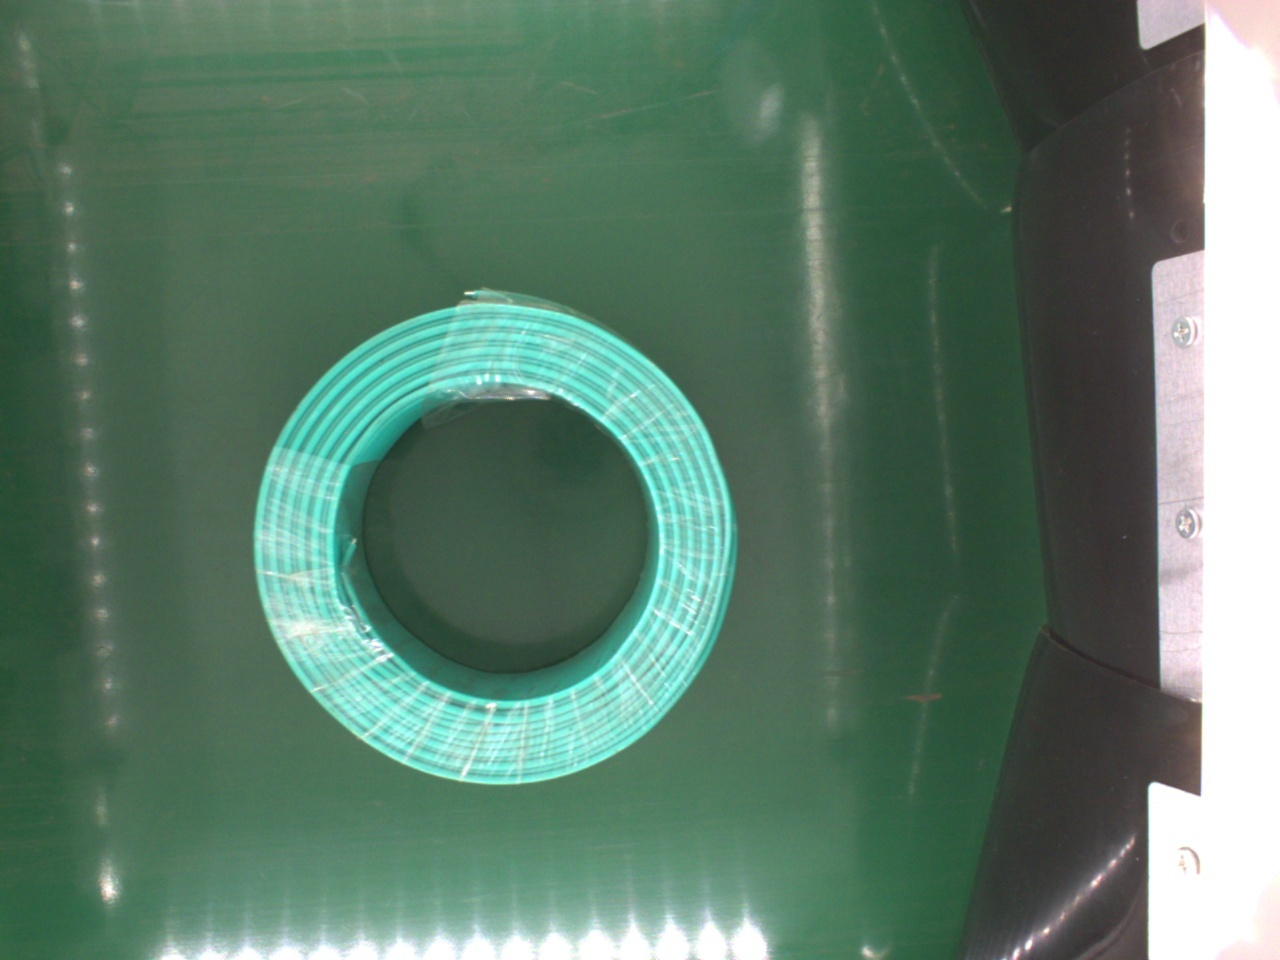green: (251, 298, 739, 778)
